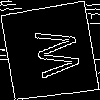W: (24, 26, 82, 81)
